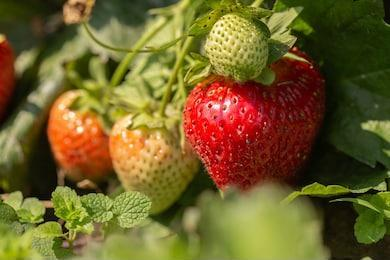Fresa: (182, 36, 336, 212)
